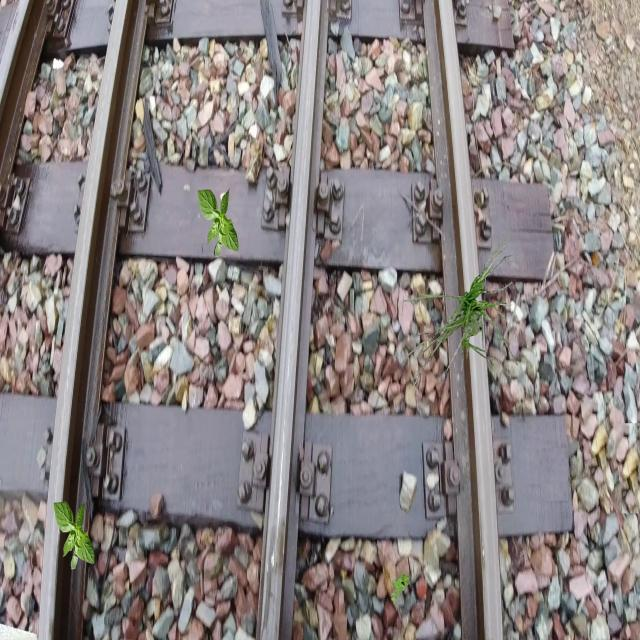Plant: (401, 232, 520, 396), (197, 187, 238, 258), (53, 499, 94, 570), (391, 570, 411, 602)
